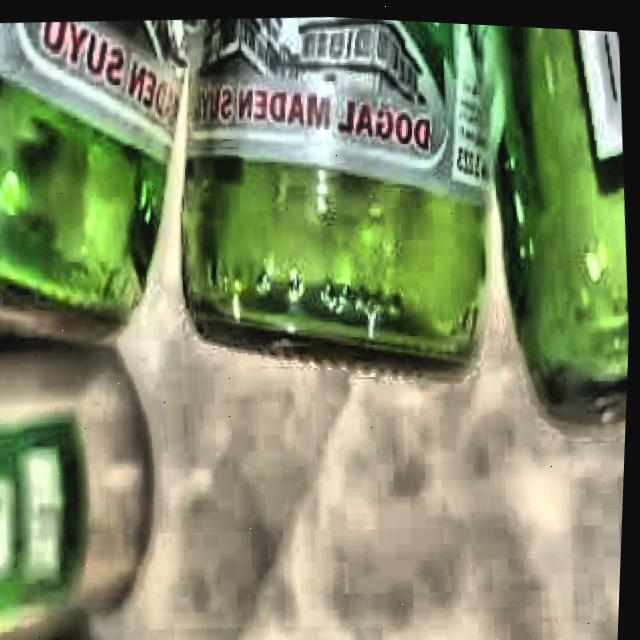glass: (0, 13, 631, 421)
